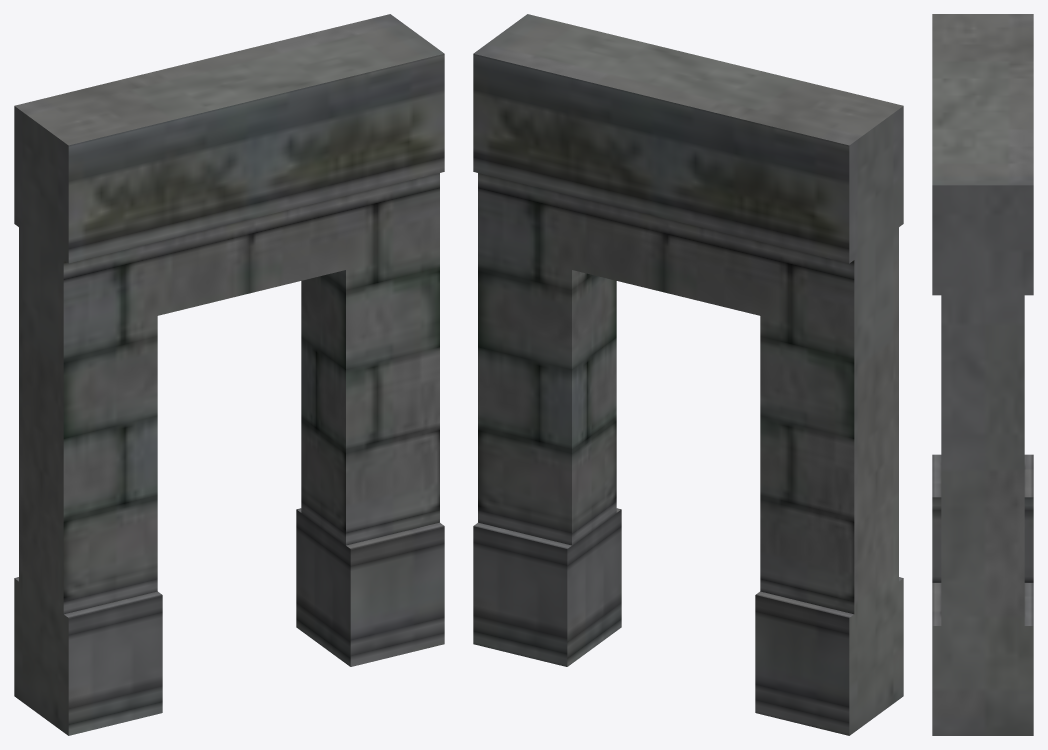
Rendered from sd_door_01.glb.
The picture shows the model from 3 angles, left to right: view 1: azimuth 30°, elevation 25°; view 2: azimuth 150°, elevation 25°; view 3: azimuth 270°, elevation 25°; orthographic projection. The views are drawn at different scales.
Visible parts, largest first — view 1: door_01; view 2: door_01; view 3: door_01.
Boxes of the visible parts, left/top/right/bottom form: door_01: left=14, top=14, right=444, bottom=735; door_01: left=473, top=14, right=903, bottom=735; door_01: left=932, top=14, right=1033, bottom=735.
Size of the model in its own units: 2 by 3 by 0.4999.
Materials: 1 (1 with a texture image).
